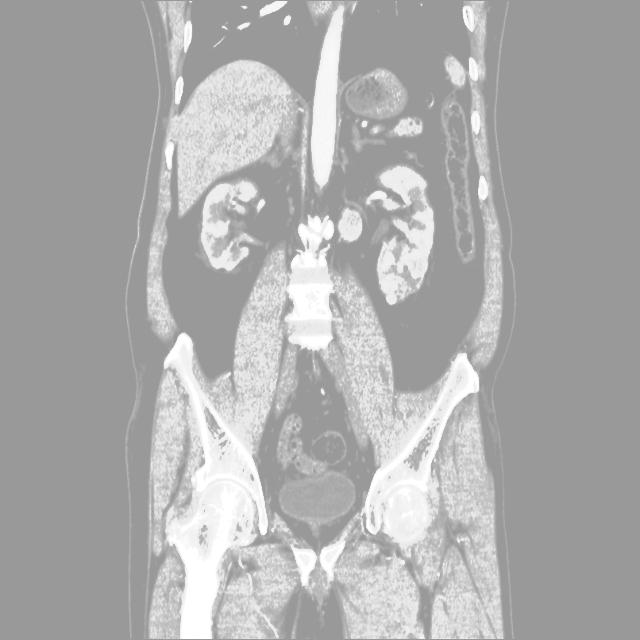TUMOR: (115, 63, 489, 264)
